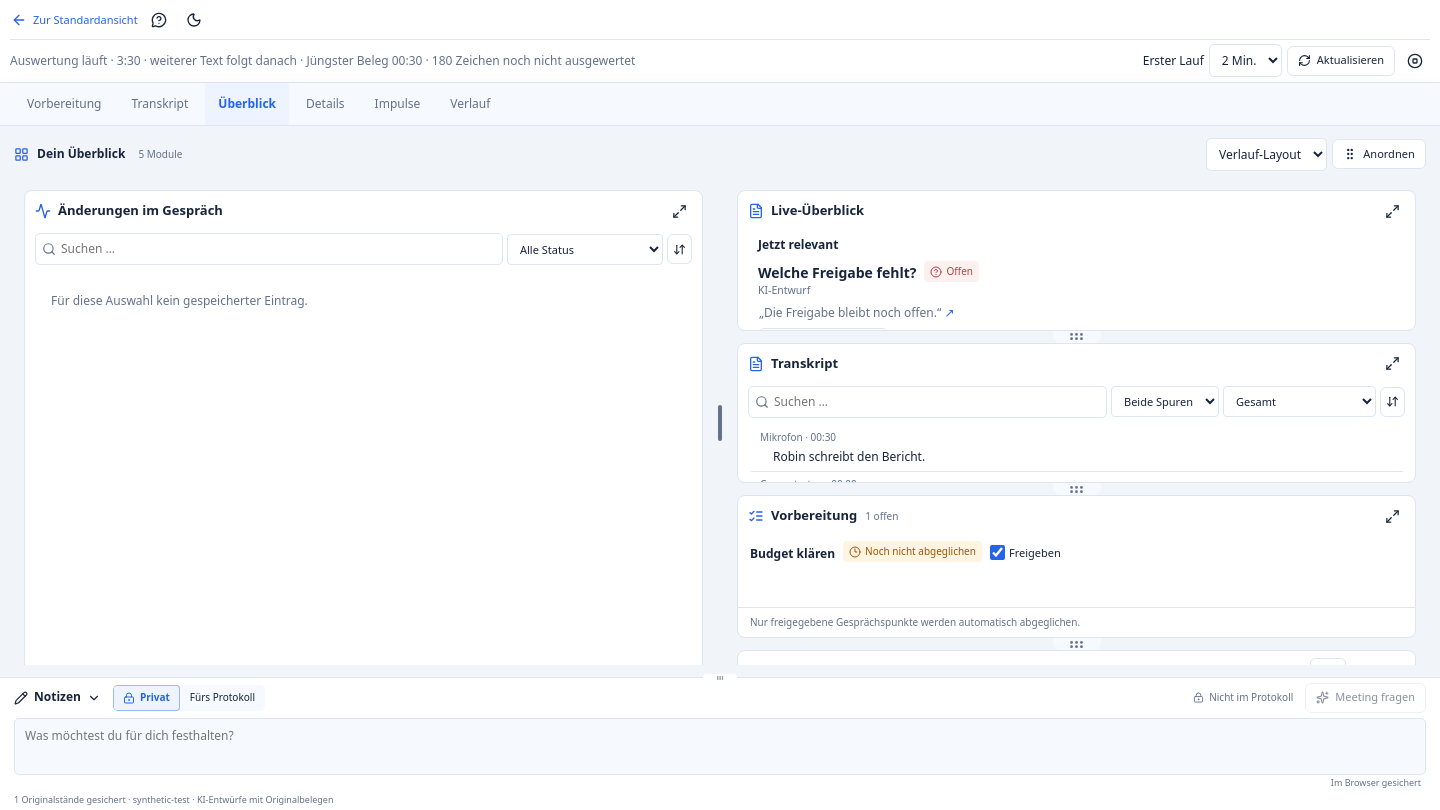
Scenario: keeps a shortened clock due as a time in the task row (de)
Click the tab "Details": (325, 104) [293,83,358,125]
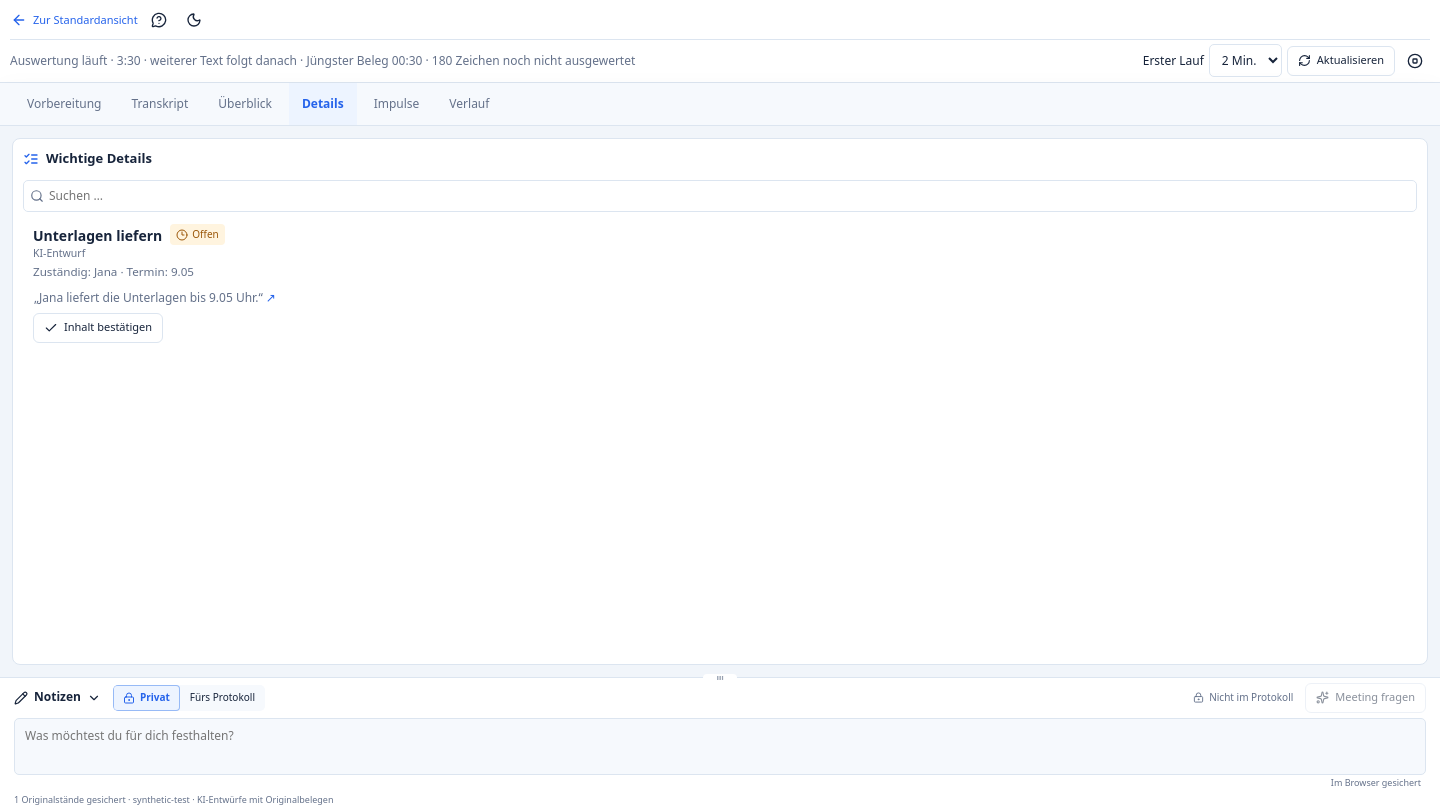
Expected: the text "Unterlagen liefern" is shown, [33,224,162,246]
Expected: the text "Zuständig: Jana · Termin: 9.05" is shown, [33,264,194,279]
